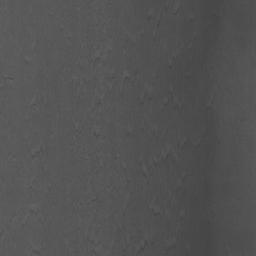Silk spot: (71, 79, 90, 96), (138, 240, 154, 254), (32, 146, 48, 159), (87, 54, 100, 67)
